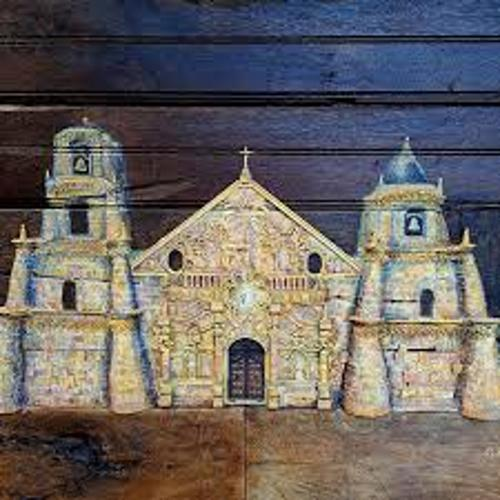Miagao Church: (11, 120, 499, 435)
